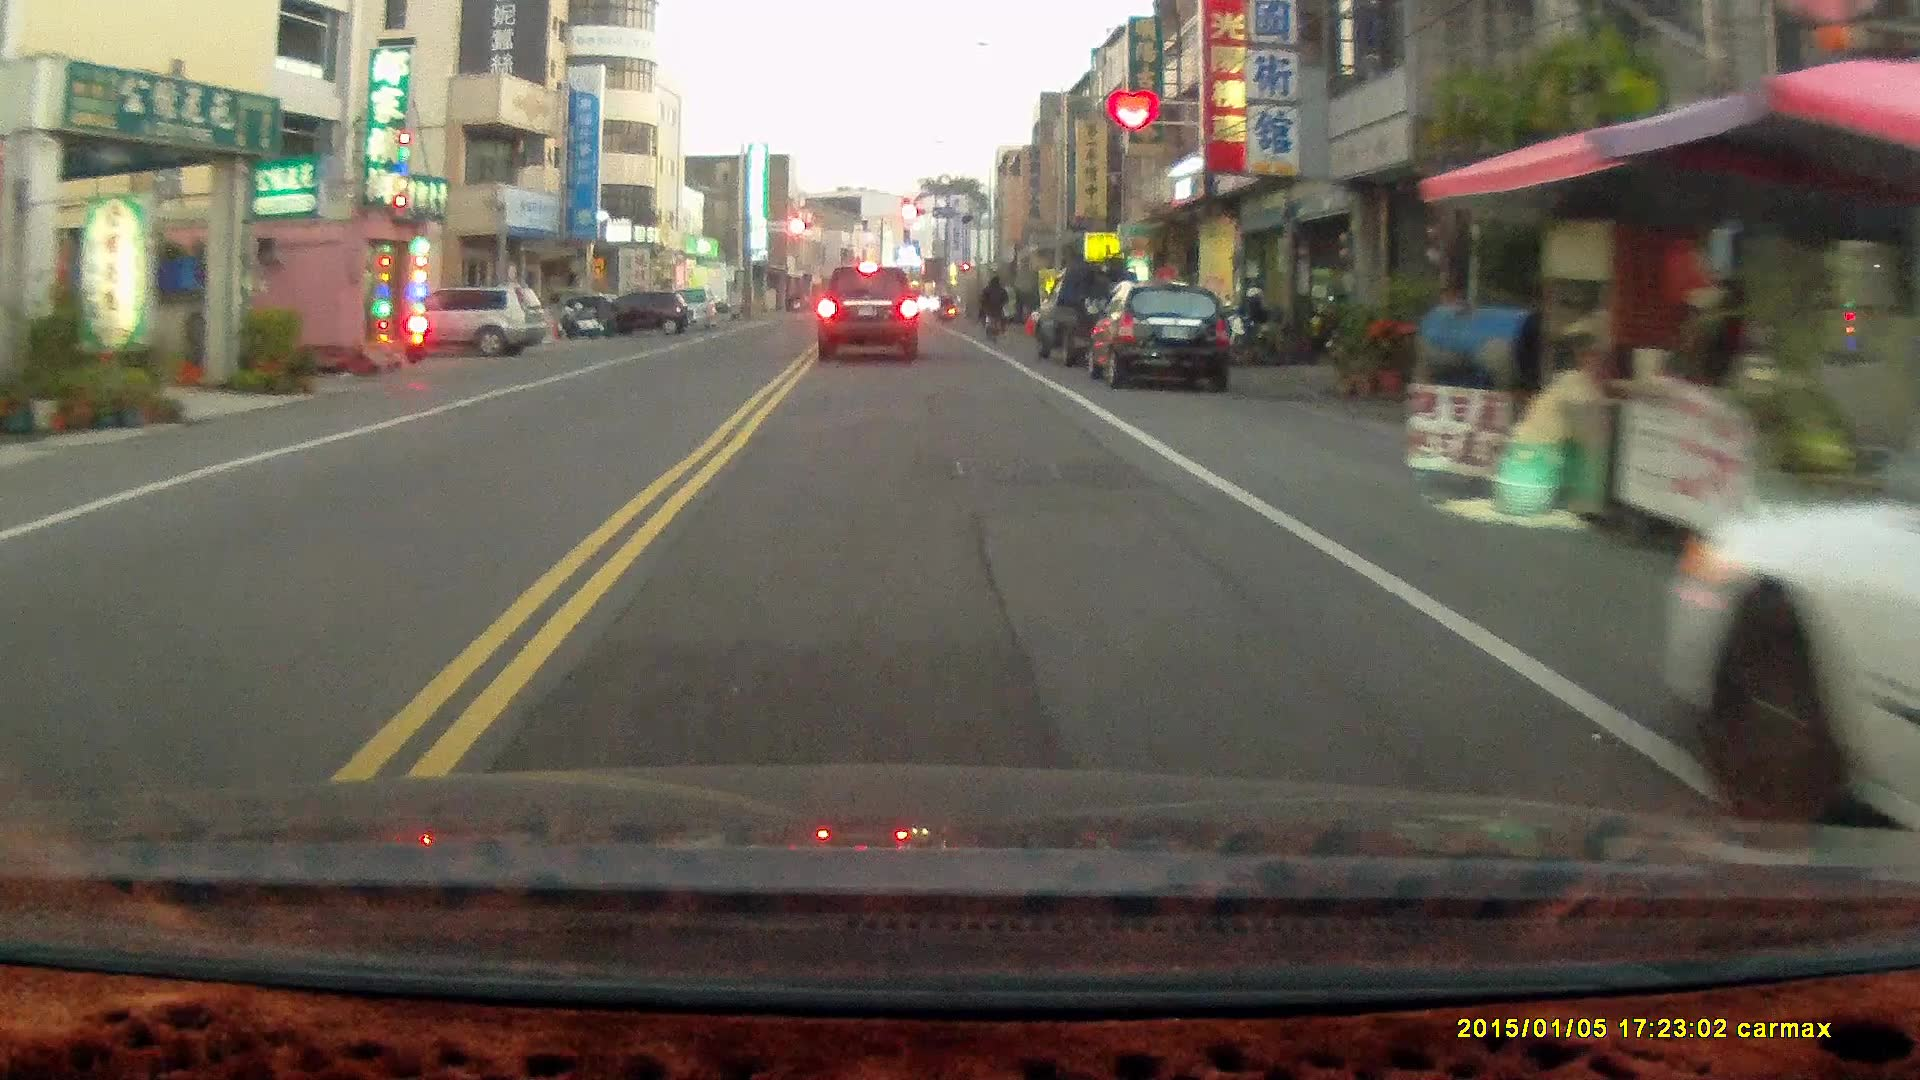rider: (978, 276, 1009, 347)
vehicle: (1655, 309, 1920, 830), (1091, 281, 1239, 396), (368, 285, 548, 358), (815, 264, 923, 363), (575, 291, 693, 334)
